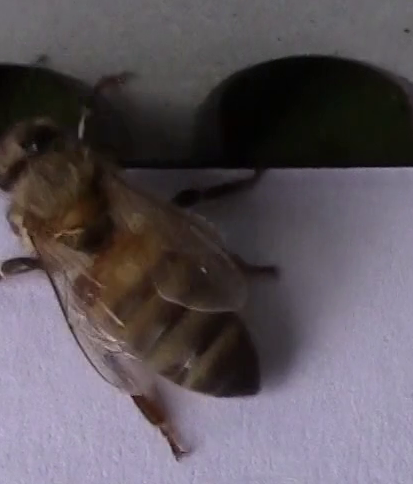Varroa destructor: (71, 264, 102, 311)
